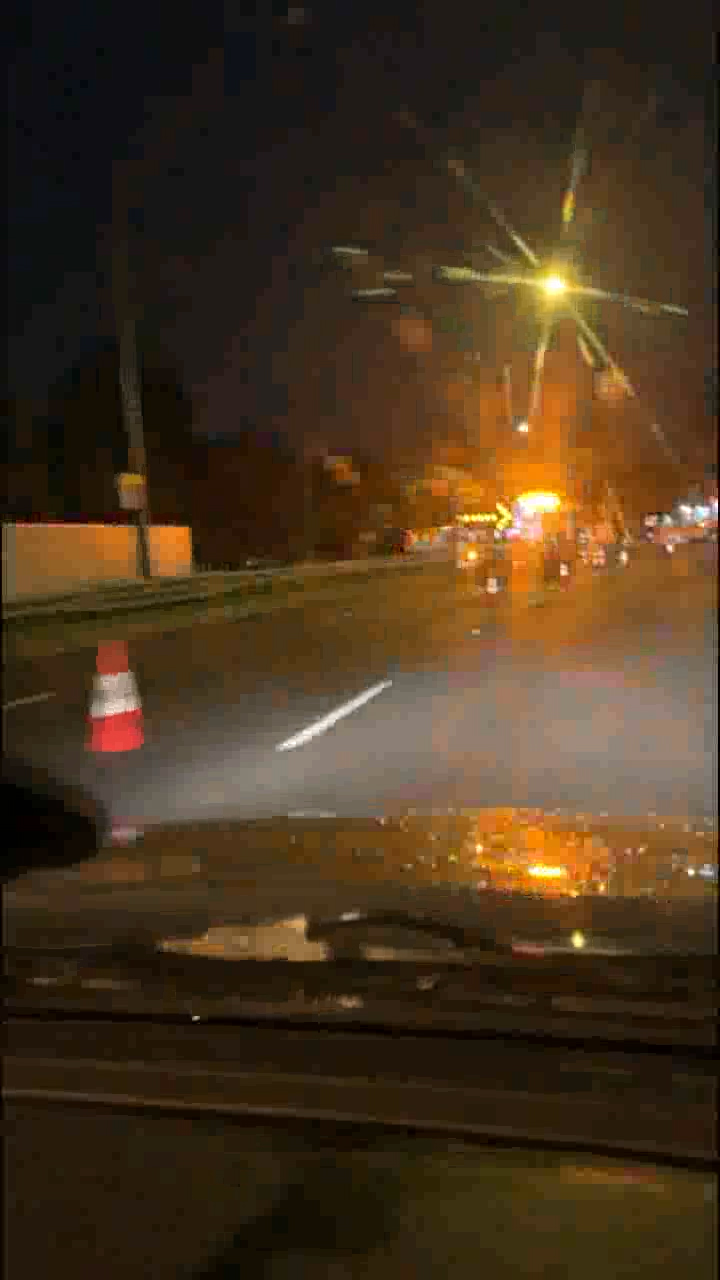road cone: (81, 640, 149, 755)
truck: (452, 488, 633, 594)
